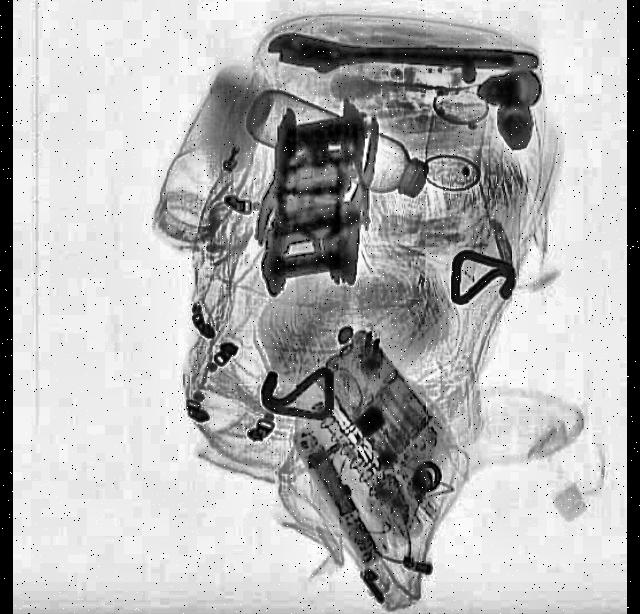Wrench: (267, 32, 538, 82)
